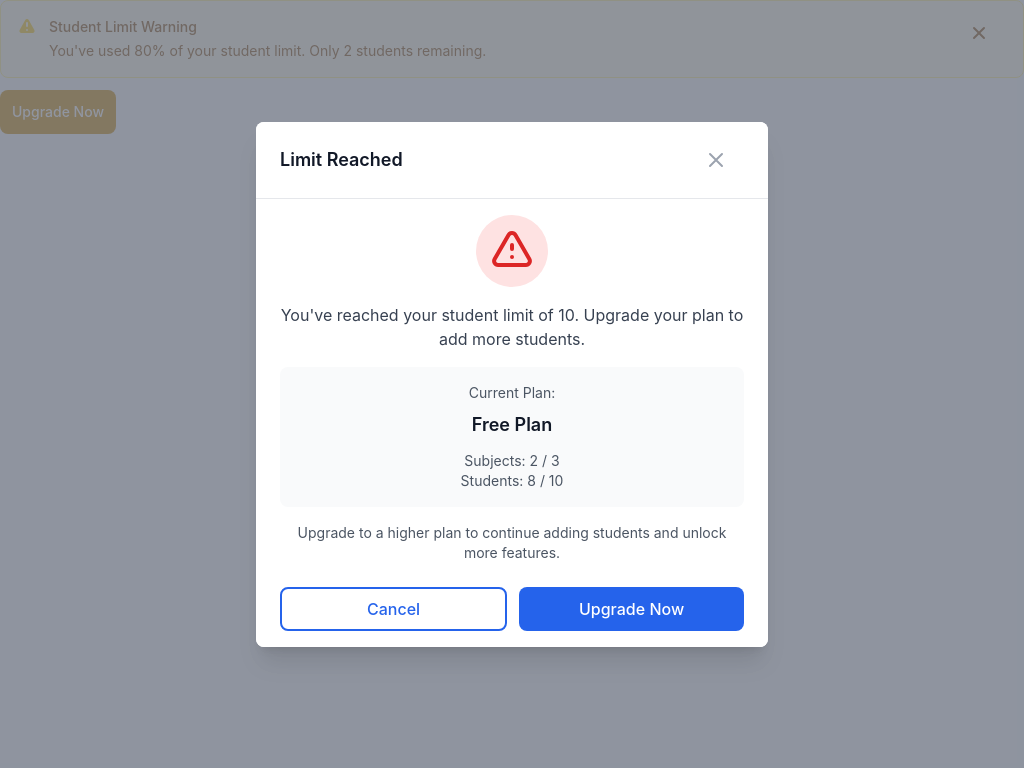
LimitWarning › should close blocking modal when cancel is clicked
Check: the heading "Limit Reached" is shown, box [280,146,403,174]
Click the button "Cancel": (394, 608) [280,586,507,630]
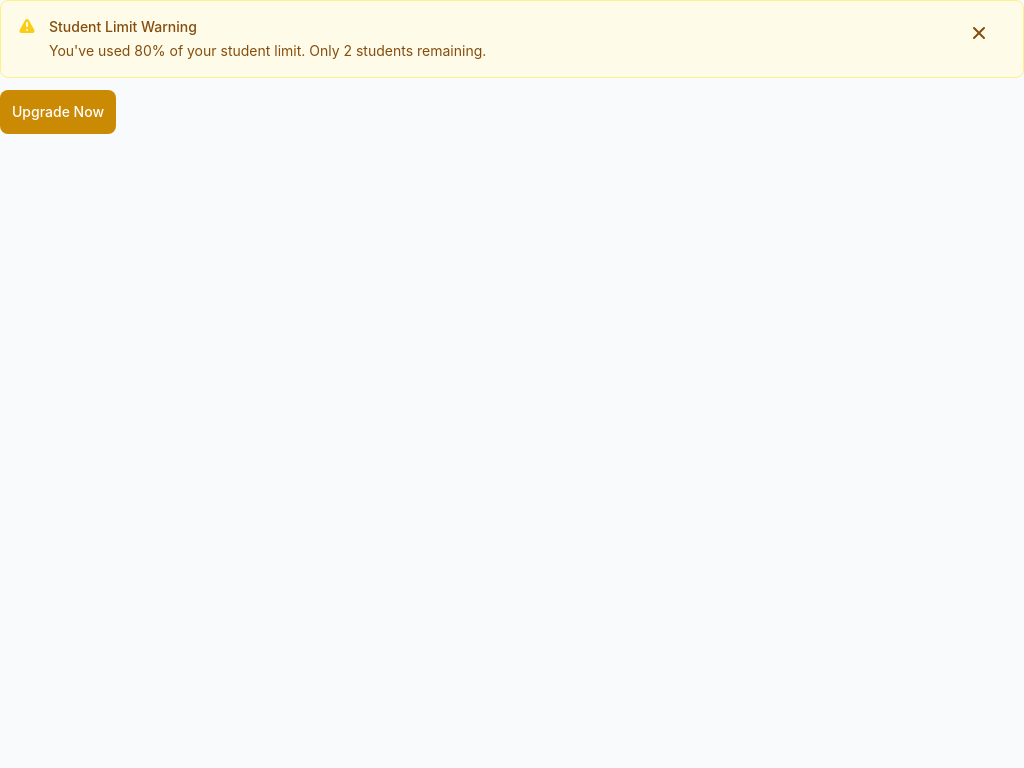
Check: the heading "Limit Reached" is gone
